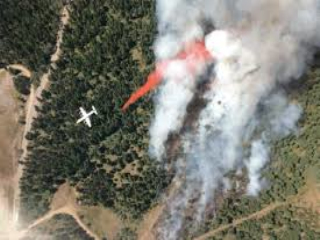smoke: (149, 3, 308, 230)
